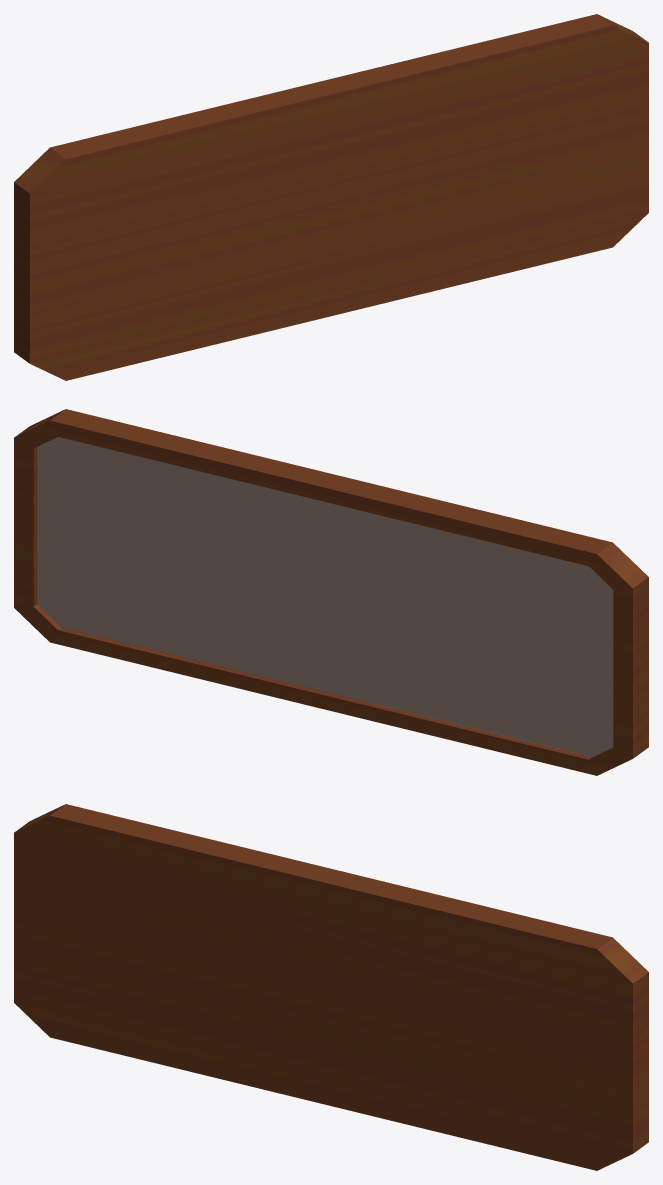
File: sign.fbx
3 views of the same model, one above another, from view 1: azimuth 30°, elevation 25°; view 2: azimuth 150°, elevation 25°; view 3: azimuth 330°, elevation 25° (orthographic).
Visible parts, largest first — view 1: Cube; view 2: Cube; view 3: Cube.
Part boxes in pixels (box(x1,y1,x2,y2)): Cube: box(14, 14, 648, 380); Cube: box(14, 409, 648, 775); Cube: box(14, 804, 648, 1170).
Bounding box in the file's own units: 670 × 229 × 29.8.
1 material, 1 textured.
